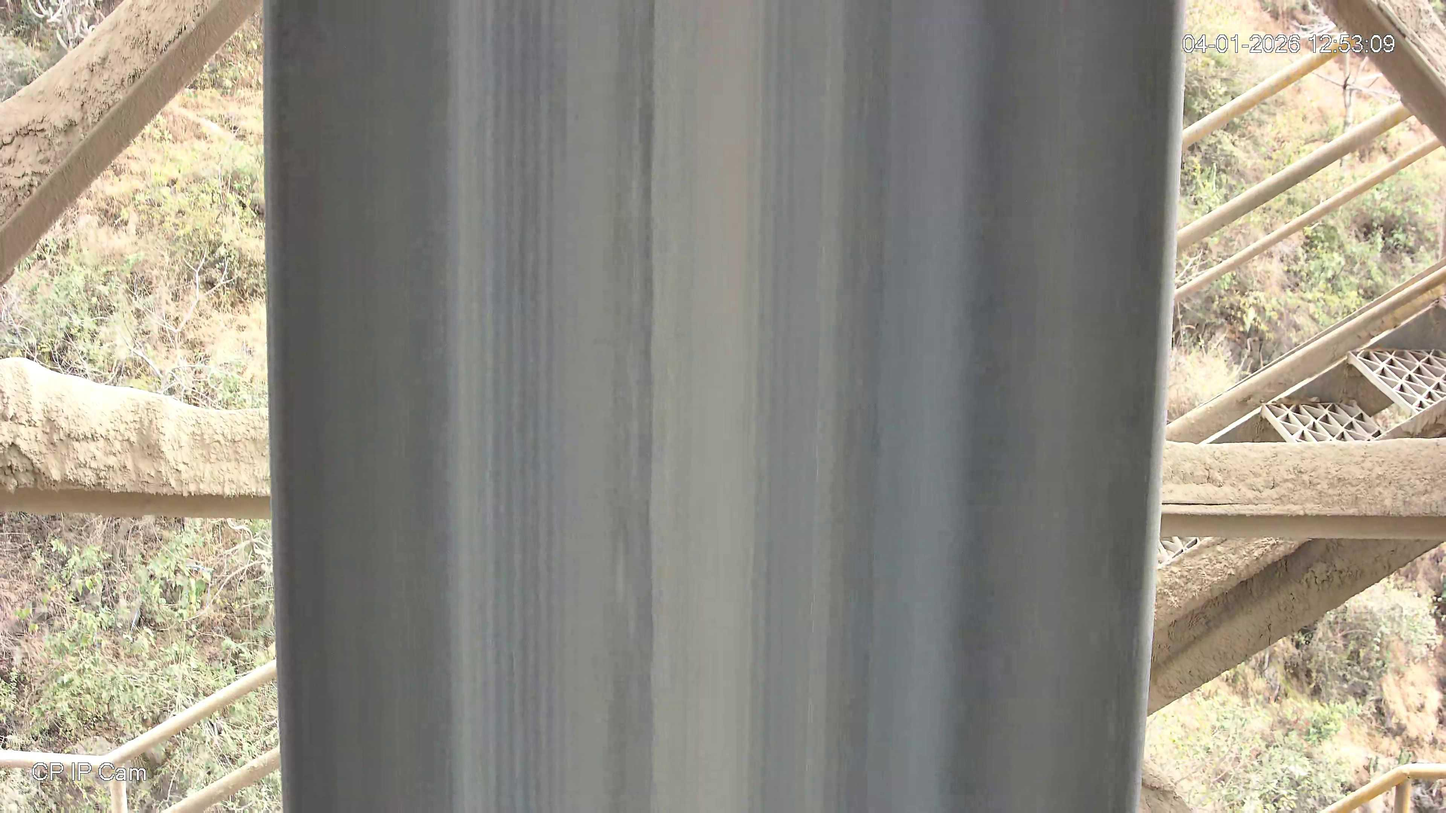belt_roi: (258, 0, 1185, 813)
